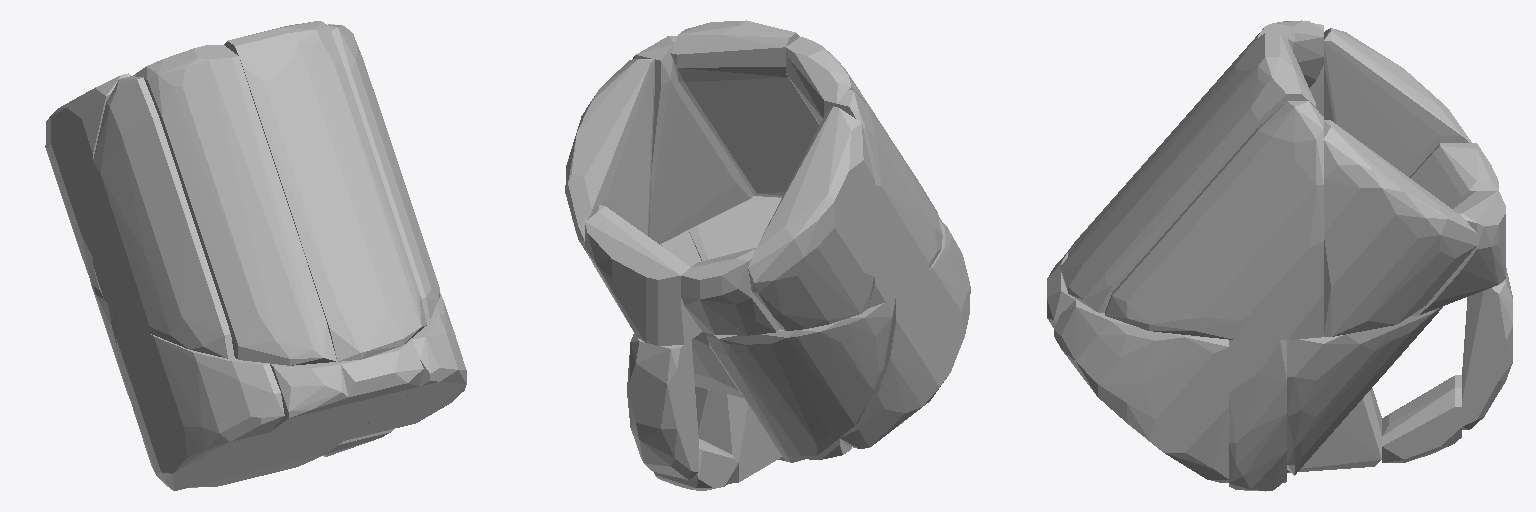
robot.urdf — root:
<robot name="root">
  <link name="link_62634df2ad8f19b87d1b7935311a2ed0_convex_piece_0">
    <inertial>
      <origin rpy="0 0 0" xyz="0 0 0"/>
      <mass value="4.69E-07"/>
      <inertia ixx="6.48E-11" ixy="-1.83E-11" ixz="3.03E-11" iyy="7.71E-11" iyz="-2.01E-11" izz="5.24E-11"/>
    </inertial>
    <visual>
      <origin rpy="0 0 0" xyz="0 0 0"/>
      <geometry>
        <mesh filename="62634df2ad8f19b87d1b7935311a2ed0_convex_piece_0.obj" scale="1.0000E+00"/>
      </geometry>
      <material name="">
        <color rgba="7.50E-01 7.50E-01 7.50E-01 1"/>
      </material>
    </visual>
    <collision>
      <origin rpy="0 0 0" xyz="0 0 0"/>
      <geometry>
        <mesh filename="62634df2ad8f19b87d1b7935311a2ed0_convex_piece_0.obj" scale="1.0000E+00"/>
      </geometry>
    </collision>
  </link>
  <link name="link_62634df2ad8f19b87d1b7935311a2ed0_convex_piece_1">
    <inertial>
      <origin rpy="0 0 0" xyz="0 0 0"/>
      <mass value="5.58E-07"/>
      <inertia ixx="1.05E-10" ixy="5.14E-11" ixz="6.05E-11" iyy="1.33E-10" iyz="3.71E-11" izz="1.25E-10"/>
    </inertial>
    <visual>
      <origin rpy="0 0 0" xyz="0 0 0"/>
      <geometry>
        <mesh filename="62634df2ad8f19b87d1b7935311a2ed0_convex_piece_1.obj" scale="1.0000E+00"/>
      </geometry>
      <material name="">
        <color rgba="7.50E-01 7.50E-01 7.50E-01 1"/>
      </material>
    </visual>
    <collision>
      <origin rpy="0 0 0" xyz="0 0 0"/>
      <geometry>
        <mesh filename="62634df2ad8f19b87d1b7935311a2ed0_convex_piece_1.obj" scale="1.0000E+00"/>
      </geometry>
    </collision>
  </link>
  <joint name="link_62634df2ad8f19b87d1b7935311a2ed0_convex_piece_1_joint" type="fixed">
    <origin rpy="0 0 0" xyz="0 0 0"/>
    <parent link="link_62634df2ad8f19b87d1b7935311a2ed0_convex_piece_0"/>
    <child link="link_62634df2ad8f19b87d1b7935311a2ed0_convex_piece_1"/>
  </joint>
  <link name="link_62634df2ad8f19b87d1b7935311a2ed0_convex_piece_2">
    <inertial>
      <origin rpy="0 0 0" xyz="0 0 0"/>
      <mass value="3.99E-07"/>
      <inertia ixx="1.13E-10" ixy="2.40E-11" ixz="2.54E-11" iyy="7.05E-11" iyz="3.47E-11" izz="7.16E-11"/>
    </inertial>
    <visual>
      <origin rpy="0 0 0" xyz="0 0 0"/>
      <geometry>
        <mesh filename="62634df2ad8f19b87d1b7935311a2ed0_convex_piece_2.obj" scale="1.0000E+00"/>
      </geometry>
      <material name="">
        <color rgba="7.50E-01 7.50E-01 7.50E-01 1"/>
      </material>
    </visual>
    <collision>
      <origin rpy="0 0 0" xyz="0 0 0"/>
      <geometry>
        <mesh filename="62634df2ad8f19b87d1b7935311a2ed0_convex_piece_2.obj" scale="1.0000E+00"/>
      </geometry>
    </collision>
  </link>
  <joint name="link_62634df2ad8f19b87d1b7935311a2ed0_convex_piece_2_joint" type="fixed">
    <origin rpy="0 0 0" xyz="0 0 0"/>
    <parent link="link_62634df2ad8f19b87d1b7935311a2ed0_convex_piece_1"/>
    <child link="link_62634df2ad8f19b87d1b7935311a2ed0_convex_piece_2"/>
  </joint>
  <link name="link_62634df2ad8f19b87d1b7935311a2ed0_convex_piece_3">
    <inertial>
      <origin rpy="0 0 0" xyz="0 0 0"/>
      <mass value="5.80E-07"/>
      <inertia ixx="1.74E-10" ixy="-9.42E-12" ixz="-1.06E-11" iyy="9.39E-11" iyz="5.03E-11" izz="9.05E-11"/>
    </inertial>
    <visual>
      <origin rpy="0 0 0" xyz="0 0 0"/>
      <geometry>
        <mesh filename="62634df2ad8f19b87d1b7935311a2ed0_convex_piece_3.obj" scale="1.0000E+00"/>
      </geometry>
      <material name="">
        <color rgba="7.50E-01 7.50E-01 7.50E-01 1"/>
      </material>
    </visual>
    <collision>
      <origin rpy="0 0 0" xyz="0 0 0"/>
      <geometry>
        <mesh filename="62634df2ad8f19b87d1b7935311a2ed0_convex_piece_3.obj" scale="1.0000E+00"/>
      </geometry>
    </collision>
  </link>
  <joint name="link_62634df2ad8f19b87d1b7935311a2ed0_convex_piece_3_joint" type="fixed">
    <origin rpy="0 0 0" xyz="0 0 0"/>
    <parent link="link_62634df2ad8f19b87d1b7935311a2ed0_convex_piece_2"/>
    <child link="link_62634df2ad8f19b87d1b7935311a2ed0_convex_piece_3"/>
  </joint>
  <link name="link_62634df2ad8f19b87d1b7935311a2ed0_convex_piece_4">
    <inertial>
      <origin rpy="0 0 0" xyz="0 0 0"/>
      <mass value="3.82E-07"/>
      <inertia ixx="4.91E-11" ixy="1.68E-11" ixz="-2.47E-11" iyy="6.00E-11" iyz="-1.70E-11" izz="4.49E-11"/>
    </inertial>
    <visual>
      <origin rpy="0 0 0" xyz="0 0 0"/>
      <geometry>
        <mesh filename="62634df2ad8f19b87d1b7935311a2ed0_convex_piece_4.obj" scale="1.0000E+00"/>
      </geometry>
      <material name="">
        <color rgba="7.50E-01 7.50E-01 7.50E-01 1"/>
      </material>
    </visual>
    <collision>
      <origin rpy="0 0 0" xyz="0 0 0"/>
      <geometry>
        <mesh filename="62634df2ad8f19b87d1b7935311a2ed0_convex_piece_4.obj" scale="1.0000E+00"/>
      </geometry>
    </collision>
  </link>
  <joint name="link_62634df2ad8f19b87d1b7935311a2ed0_convex_piece_4_joint" type="fixed">
    <origin rpy="0 0 0" xyz="0 0 0"/>
    <parent link="link_62634df2ad8f19b87d1b7935311a2ed0_convex_piece_3"/>
    <child link="link_62634df2ad8f19b87d1b7935311a2ed0_convex_piece_4"/>
  </joint>
  <link name="link_62634df2ad8f19b87d1b7935311a2ed0_convex_piece_5">
    <inertial>
      <origin rpy="0 0 0" xyz="0 0 0"/>
      <mass value="3.24E-07"/>
      <inertia ixx="2.30E-11" ixy="7.20E-12" ixz="-2.17E-11" iyy="6.76E-11" iyz="-1.02E-12" izz="5.78E-11"/>
    </inertial>
    <visual>
      <origin rpy="0 0 0" xyz="0 0 0"/>
      <geometry>
        <mesh filename="62634df2ad8f19b87d1b7935311a2ed0_convex_piece_5.obj" scale="1.0000E+00"/>
      </geometry>
      <material name="">
        <color rgba="7.50E-01 7.50E-01 7.50E-01 1"/>
      </material>
    </visual>
    <collision>
      <origin rpy="0 0 0" xyz="0 0 0"/>
      <geometry>
        <mesh filename="62634df2ad8f19b87d1b7935311a2ed0_convex_piece_5.obj" scale="1.0000E+00"/>
      </geometry>
    </collision>
  </link>
  <joint name="link_62634df2ad8f19b87d1b7935311a2ed0_convex_piece_5_joint" type="fixed">
    <origin rpy="0 0 0" xyz="0 0 0"/>
    <parent link="link_62634df2ad8f19b87d1b7935311a2ed0_convex_piece_4"/>
    <child link="link_62634df2ad8f19b87d1b7935311a2ed0_convex_piece_5"/>
  </joint>
  <link name="link_62634df2ad8f19b87d1b7935311a2ed0_convex_piece_6">
    <inertial>
      <origin rpy="0 0 0" xyz="0 0 0"/>
      <mass value="5.27E-07"/>
      <inertia ixx="1.09E-10" ixy="2.45E-11" ixz="-3.35E-11" iyy="9.33E-11" iyz="-2.00E-11" izz="7.05E-11"/>
    </inertial>
    <visual>
      <origin rpy="0 0 0" xyz="0 0 0"/>
      <geometry>
        <mesh filename="62634df2ad8f19b87d1b7935311a2ed0_convex_piece_6.obj" scale="1.0000E+00"/>
      </geometry>
      <material name="">
        <color rgba="7.50E-01 7.50E-01 7.50E-01 1"/>
      </material>
    </visual>
    <collision>
      <origin rpy="0 0 0" xyz="0 0 0"/>
      <geometry>
        <mesh filename="62634df2ad8f19b87d1b7935311a2ed0_convex_piece_6.obj" scale="1.0000E+00"/>
      </geometry>
    </collision>
  </link>
  <joint name="link_62634df2ad8f19b87d1b7935311a2ed0_convex_piece_6_joint" type="fixed">
    <origin rpy="0 0 0" xyz="0 0 0"/>
    <parent link="link_62634df2ad8f19b87d1b7935311a2ed0_convex_piece_5"/>
    <child link="link_62634df2ad8f19b87d1b7935311a2ed0_convex_piece_6"/>
  </joint>
  <link name="link_62634df2ad8f19b87d1b7935311a2ed0_convex_piece_7">
    <inertial>
      <origin rpy="0 0 0" xyz="0 0 0"/>
      <mass value="3.92E-07"/>
      <inertia ixx="6.78E-11" ixy="-4.39E-11" ixz="-3.48E-11" iyy="8.43E-11" iyz="2.56E-11" izz="9.59E-11"/>
    </inertial>
    <visual>
      <origin rpy="0 0 0" xyz="0 0 0"/>
      <geometry>
        <mesh filename="62634df2ad8f19b87d1b7935311a2ed0_convex_piece_7.obj" scale="1.0000E+00"/>
      </geometry>
      <material name="">
        <color rgba="7.50E-01 7.50E-01 7.50E-01 1"/>
      </material>
    </visual>
    <collision>
      <origin rpy="0 0 0" xyz="0 0 0"/>
      <geometry>
        <mesh filename="62634df2ad8f19b87d1b7935311a2ed0_convex_piece_7.obj" scale="1.0000E+00"/>
      </geometry>
    </collision>
  </link>
  <joint name="link_62634df2ad8f19b87d1b7935311a2ed0_convex_piece_7_joint" type="fixed">
    <origin rpy="0 0 0" xyz="0 0 0"/>
    <parent link="link_62634df2ad8f19b87d1b7935311a2ed0_convex_piece_6"/>
    <child link="link_62634df2ad8f19b87d1b7935311a2ed0_convex_piece_7"/>
  </joint>
  <link name="link_62634df2ad8f19b87d1b7935311a2ed0_convex_piece_8">
    <inertial>
      <origin rpy="0 0 0" xyz="0 0 0"/>
      <mass value="1.44E-07"/>
      <inertia ixx="3.91E-11" ixy="-1.43E-11" ixz="-2.21E-12" iyy="6.93E-12" iyz="5.60E-12" izz="4.44E-11"/>
    </inertial>
    <visual>
      <origin rpy="0 0 0" xyz="0 0 0"/>
      <geometry>
        <mesh filename="62634df2ad8f19b87d1b7935311a2ed0_convex_piece_8.obj" scale="1.0000E+00"/>
      </geometry>
      <material name="">
        <color rgba="7.50E-01 7.50E-01 7.50E-01 1"/>
      </material>
    </visual>
    <collision>
      <origin rpy="0 0 0" xyz="0 0 0"/>
      <geometry>
        <mesh filename="62634df2ad8f19b87d1b7935311a2ed0_convex_piece_8.obj" scale="1.0000E+00"/>
      </geometry>
    </collision>
  </link>
  <joint name="link_62634df2ad8f19b87d1b7935311a2ed0_convex_piece_8_joint" type="fixed">
    <origin rpy="0 0 0" xyz="0 0 0"/>
    <parent link="link_62634df2ad8f19b87d1b7935311a2ed0_convex_piece_7"/>
    <child link="link_62634df2ad8f19b87d1b7935311a2ed0_convex_piece_8"/>
  </joint>
  <link name="link_62634df2ad8f19b87d1b7935311a2ed0_convex_piece_9">
    <inertial>
      <origin rpy="0 0 0" xyz="0 0 0"/>
      <mass value="7.38E-07"/>
      <inertia ixx="1.77E-10" ixy="-1.75E-11" ixz="2.21E-11" iyy="1.16E-10" iyz="-3.70E-11" izz="9.03E-11"/>
    </inertial>
    <visual>
      <origin rpy="0 0 0" xyz="0 0 0"/>
      <geometry>
        <mesh filename="62634df2ad8f19b87d1b7935311a2ed0_convex_piece_9.obj" scale="1.0000E+00"/>
      </geometry>
      <material name="">
        <color rgba="7.50E-01 7.50E-01 7.50E-01 1"/>
      </material>
    </visual>
    <collision>
      <origin rpy="0 0 0" xyz="0 0 0"/>
      <geometry>
        <mesh filename="62634df2ad8f19b87d1b7935311a2ed0_convex_piece_9.obj" scale="1.0000E+00"/>
      </geometry>
    </collision>
  </link>
  <joint name="link_62634df2ad8f19b87d1b7935311a2ed0_convex_piece_9_joint" type="fixed">
    <origin rpy="0 0 0" xyz="0 0 0"/>
    <parent link="link_62634df2ad8f19b87d1b7935311a2ed0_convex_piece_8"/>
    <child link="link_62634df2ad8f19b87d1b7935311a2ed0_convex_piece_9"/>
  </joint>
  <link name="link_62634df2ad8f19b87d1b7935311a2ed0_convex_piece_10">
    <inertial>
      <origin rpy="0 0 0" xyz="0 0 0"/>
      <mass value="5.12E-07"/>
      <inertia ixx="4.74E-11" ixy="-1.49E-11" ixz="3.55E-11" iyy="1.02E-10" iyz="-3.78E-12" izz="8.45E-11"/>
    </inertial>
    <visual>
      <origin rpy="0 0 0" xyz="0 0 0"/>
      <geometry>
        <mesh filename="62634df2ad8f19b87d1b7935311a2ed0_convex_piece_10.obj" scale="1.0000E+00"/>
      </geometry>
      <material name="">
        <color rgba="7.50E-01 7.50E-01 7.50E-01 1"/>
      </material>
    </visual>
    <collision>
      <origin rpy="0 0 0" xyz="0 0 0"/>
      <geometry>
        <mesh filename="62634df2ad8f19b87d1b7935311a2ed0_convex_piece_10.obj" scale="1.0000E+00"/>
      </geometry>
    </collision>
  </link>
  <joint name="link_62634df2ad8f19b87d1b7935311a2ed0_convex_piece_10_joint" type="fixed">
    <origin rpy="0 0 0" xyz="0 0 0"/>
    <parent link="link_62634df2ad8f19b87d1b7935311a2ed0_convex_piece_9"/>
    <child link="link_62634df2ad8f19b87d1b7935311a2ed0_convex_piece_10"/>
  </joint>
  <link name="link_62634df2ad8f19b87d1b7935311a2ed0_convex_piece_11">
    <inertial>
      <origin rpy="0 0 0" xyz="0 0 0"/>
      <mass value="3.30E-07"/>
      <inertia ixx="9.80E-11" ixy="1.89E-11" ixz="2.94E-12" iyy="9.39E-12" iyz="1.10E-11" izz="1.05E-10"/>
    </inertial>
    <visual>
      <origin rpy="0 0 0" xyz="0 0 0"/>
      <geometry>
        <mesh filename="62634df2ad8f19b87d1b7935311a2ed0_convex_piece_11.obj" scale="1.0000E+00"/>
      </geometry>
      <material name="">
        <color rgba="7.50E-01 7.50E-01 7.50E-01 1"/>
      </material>
    </visual>
    <collision>
      <origin rpy="0 0 0" xyz="0 0 0"/>
      <geometry>
        <mesh filename="62634df2ad8f19b87d1b7935311a2ed0_convex_piece_11.obj" scale="1.0000E+00"/>
      </geometry>
    </collision>
  </link>
  <joint name="link_62634df2ad8f19b87d1b7935311a2ed0_convex_piece_11_joint" type="fixed">
    <origin rpy="0 0 0" xyz="0 0 0"/>
    <parent link="link_62634df2ad8f19b87d1b7935311a2ed0_convex_piece_10"/>
    <child link="link_62634df2ad8f19b87d1b7935311a2ed0_convex_piece_11"/>
  </joint>
  <link name="link_62634df2ad8f19b87d1b7935311a2ed0_convex_piece_12">
    <inertial>
      <origin rpy="0 0 0" xyz="0 0 0"/>
      <mass value="3.80E-07"/>
      <inertia ixx="6.59E-11" ixy="4.28E-11" ixz="3.45E-11" iyy="8.34E-11" iyz="2.51E-11" izz="9.36E-11"/>
    </inertial>
    <visual>
      <origin rpy="0 0 0" xyz="0 0 0"/>
      <geometry>
        <mesh filename="62634df2ad8f19b87d1b7935311a2ed0_convex_piece_12.obj" scale="1.0000E+00"/>
      </geometry>
      <material name="">
        <color rgba="7.50E-01 7.50E-01 7.50E-01 1"/>
      </material>
    </visual>
    <collision>
      <origin rpy="0 0 0" xyz="0 0 0"/>
      <geometry>
        <mesh filename="62634df2ad8f19b87d1b7935311a2ed0_convex_piece_12.obj" scale="1.0000E+00"/>
      </geometry>
    </collision>
  </link>
  <joint name="link_62634df2ad8f19b87d1b7935311a2ed0_convex_piece_12_joint" type="fixed">
    <origin rpy="0 0 0" xyz="0 0 0"/>
    <parent link="link_62634df2ad8f19b87d1b7935311a2ed0_convex_piece_11"/>
    <child link="link_62634df2ad8f19b87d1b7935311a2ed0_convex_piece_12"/>
  </joint>
  <link name="link_62634df2ad8f19b87d1b7935311a2ed0_convex_piece_13">
    <inertial>
      <origin rpy="0 0 0" xyz="0 0 0"/>
      <mass value="5.34E-07"/>
      <inertia ixx="1.21E-10" ixy="-6.01E-11" ixz="-4.90E-11" iyy="1.07E-10" iyz="4.75E-11" izz="1.35E-10"/>
    </inertial>
    <visual>
      <origin rpy="0 0 0" xyz="0 0 0"/>
      <geometry>
        <mesh filename="62634df2ad8f19b87d1b7935311a2ed0_convex_piece_13.obj" scale="1.0000E+00"/>
      </geometry>
      <material name="">
        <color rgba="7.50E-01 7.50E-01 7.50E-01 1"/>
      </material>
    </visual>
    <collision>
      <origin rpy="0 0 0" xyz="0 0 0"/>
      <geometry>
        <mesh filename="62634df2ad8f19b87d1b7935311a2ed0_convex_piece_13.obj" scale="1.0000E+00"/>
      </geometry>
    </collision>
  </link>
  <joint name="link_62634df2ad8f19b87d1b7935311a2ed0_convex_piece_13_joint" type="fixed">
    <origin rpy="0 0 0" xyz="0 0 0"/>
    <parent link="link_62634df2ad8f19b87d1b7935311a2ed0_convex_piece_12"/>
    <child link="link_62634df2ad8f19b87d1b7935311a2ed0_convex_piece_13"/>
  </joint>
  <link name="link_62634df2ad8f19b87d1b7935311a2ed0_convex_piece_14">
    <inertial>
      <origin rpy="0 0 0" xyz="0 0 0"/>
      <mass value="2.50E-07"/>
      <inertia ixx="4.27E-11" ixy="-6.10E-12" ixz="-3.04E-11" iyy="7.11E-11" iyz="6.04E-12" izz="3.14E-11"/>
    </inertial>
    <visual>
      <origin rpy="0 0 0" xyz="0 0 0"/>
      <geometry>
        <mesh filename="62634df2ad8f19b87d1b7935311a2ed0_convex_piece_14.obj" scale="1.0000E+00"/>
      </geometry>
      <material name="">
        <color rgba="7.50E-01 7.50E-01 7.50E-01 1"/>
      </material>
    </visual>
    <collision>
      <origin rpy="0 0 0" xyz="0 0 0"/>
      <geometry>
        <mesh filename="62634df2ad8f19b87d1b7935311a2ed0_convex_piece_14.obj" scale="1.0000E+00"/>
      </geometry>
    </collision>
  </link>
  <joint name="link_62634df2ad8f19b87d1b7935311a2ed0_convex_piece_14_joint" type="fixed">
    <origin rpy="0 0 0" xyz="0 0 0"/>
    <parent link="link_62634df2ad8f19b87d1b7935311a2ed0_convex_piece_13"/>
    <child link="link_62634df2ad8f19b87d1b7935311a2ed0_convex_piece_14"/>
  </joint>
  <link name="link_62634df2ad8f19b87d1b7935311a2ed0_convex_piece_15">
    <inertial>
      <origin rpy="0 0 0" xyz="0 0 0"/>
      <mass value="1.38E-07"/>
      <inertia ixx="6.97E-11" ixy="1.75E-13" ixz="-8.92E-14" iyy="1.34E-11" iyz="-2.60E-11" izz="5.70E-11"/>
    </inertial>
    <visual>
      <origin rpy="0 0 0" xyz="0 0 0"/>
      <geometry>
        <mesh filename="62634df2ad8f19b87d1b7935311a2ed0_convex_piece_15.obj" scale="1.0000E+00"/>
      </geometry>
      <material name="">
        <color rgba="7.50E-01 7.50E-01 7.50E-01 1"/>
      </material>
    </visual>
    <collision>
      <origin rpy="0 0 0" xyz="0 0 0"/>
      <geometry>
        <mesh filename="62634df2ad8f19b87d1b7935311a2ed0_convex_piece_15.obj" scale="1.0000E+00"/>
      </geometry>
    </collision>
  </link>
  <joint name="link_62634df2ad8f19b87d1b7935311a2ed0_convex_piece_15_joint" type="fixed">
    <origin rpy="0 0 0" xyz="0 0 0"/>
    <parent link="link_62634df2ad8f19b87d1b7935311a2ed0_convex_piece_14"/>
    <child link="link_62634df2ad8f19b87d1b7935311a2ed0_convex_piece_15"/>
  </joint>
  <link name="link_62634df2ad8f19b87d1b7935311a2ed0_convex_piece_16">
    <inertial>
      <origin rpy="0 0 0" xyz="0 0 0"/>
      <mass value="1.45E-07"/>
      <inertia ixx="2.59E-11" ixy="7.02E-13" ixz="-5.02E-13" iyy="8.89E-12" iyz="-1.09E-11" izz="1.81E-11"/>
    </inertial>
    <visual>
      <origin rpy="0 0 0" xyz="0 0 0"/>
      <geometry>
        <mesh filename="62634df2ad8f19b87d1b7935311a2ed0_convex_piece_16.obj" scale="1.0000E+00"/>
      </geometry>
      <material name="">
        <color rgba="7.50E-01 7.50E-01 7.50E-01 1"/>
      </material>
    </visual>
    <collision>
      <origin rpy="0 0 0" xyz="0 0 0"/>
      <geometry>
        <mesh filename="62634df2ad8f19b87d1b7935311a2ed0_convex_piece_16.obj" scale="1.0000E+00"/>
      </geometry>
    </collision>
  </link>
  <joint name="link_62634df2ad8f19b87d1b7935311a2ed0_convex_piece_16_joint" type="fixed">
    <origin rpy="0 0 0" xyz="0 0 0"/>
    <parent link="link_62634df2ad8f19b87d1b7935311a2ed0_convex_piece_15"/>
    <child link="link_62634df2ad8f19b87d1b7935311a2ed0_convex_piece_16"/>
  </joint>
  <link name="link_62634df2ad8f19b87d1b7935311a2ed0_convex_piece_17">
    <inertial>
      <origin rpy="0 0 0" xyz="0 0 0"/>
      <mass value="1.91E-07"/>
      <inertia ixx="6.68E-11" ixy="3.17E-13" ixz="-1.16E-12" iyy="6.12E-11" iyz="-1.86E-11" izz="6.87E-12"/>
    </inertial>
    <visual>
      <origin rpy="0 0 0" xyz="0 0 0"/>
      <geometry>
        <mesh filename="62634df2ad8f19b87d1b7935311a2ed0_convex_piece_17.obj" scale="1.0000E+00"/>
      </geometry>
      <material name="">
        <color rgba="7.50E-01 7.50E-01 7.50E-01 1"/>
      </material>
    </visual>
    <collision>
      <origin rpy="0 0 0" xyz="0 0 0"/>
      <geometry>
        <mesh filename="62634df2ad8f19b87d1b7935311a2ed0_convex_piece_17.obj" scale="1.0000E+00"/>
      </geometry>
    </collision>
  </link>
  <joint name="link_62634df2ad8f19b87d1b7935311a2ed0_convex_piece_17_joint" type="fixed">
    <origin rpy="0 0 0" xyz="0 0 0"/>
    <parent link="link_62634df2ad8f19b87d1b7935311a2ed0_convex_piece_16"/>
    <child link="link_62634df2ad8f19b87d1b7935311a2ed0_convex_piece_17"/>
  </joint>
  <link name="link_62634df2ad8f19b87d1b7935311a2ed0_convex_piece_18">
    <inertial>
      <origin rpy="0 0 0" xyz="0 0 0"/>
      <mass value="8.39E-08"/>
      <inertia ixx="4.46E-11" ixy="1.03E-13" ixz="-1.28E-13" iyy="2.74E-11" iyz="-2.18E-11" izz="1.76E-11"/>
    </inertial>
    <visual>
      <origin rpy="0 0 0" xyz="0 0 0"/>
      <geometry>
        <mesh filename="62634df2ad8f19b87d1b7935311a2ed0_convex_piece_18.obj" scale="1.0000E+00"/>
      </geometry>
      <material name="">
        <color rgba="7.50E-01 7.50E-01 7.50E-01 1"/>
      </material>
    </visual>
    <collision>
      <origin rpy="0 0 0" xyz="0 0 0"/>
      <geometry>
        <mesh filename="62634df2ad8f19b87d1b7935311a2ed0_convex_piece_18.obj" scale="1.0000E+00"/>
      </geometry>
    </collision>
  </link>
  <joint name="link_62634df2ad8f19b87d1b7935311a2ed0_convex_piece_18_joint" type="fixed">
    <origin rpy="0 0 0" xyz="0 0 0"/>
    <parent link="link_62634df2ad8f19b87d1b7935311a2ed0_convex_piece_17"/>
    <child link="link_62634df2ad8f19b87d1b7935311a2ed0_convex_piece_18"/>
  </joint>
</robot>

--- What the picture shows (computed from the rendered views, not written in the file) ---
The picture shows the robot from 3 angles, left to right: view 1: azimuth 30°, elevation 25°; view 2: azimuth 150°, elevation 25°; view 3: azimuth 270°, elevation 25°; orthographic projection.
Model root with 19 links and 18 joints (18 fixed), rooted at link_62634df2ad8f19b87d1b7935311a2ed0_convex_piece_0, posed all joints at 0.
Visible links, largest first — view 1: link_62634df2ad8f19b87d1b7935311a2ed0_convex_piece_9, link_62634df2ad8f19b87d1b7935311a2ed0_convex_piece_6, link_62634df2ad8f19b87d1b7935311a2ed0_convex_piece_5, link_62634df2ad8f19b87d1b7935311a2ed0_convex_piece_1, link_62634df2ad8f19b87d1b7935311a2ed0_convex_piece_3, link_62634df2ad8f19b87d1b7935311a2ed0_convex_piece_7, link_62634df2ad8f19b87d1b7935311a2ed0_convex_piece_10, link_62634df2ad8f19b87d1b7935311a2ed0_convex_piece_2, link_62634df2ad8f19b87d1b7935311a2ed0_convex_piece_13, link_62634df2ad8f19b87d1b7935311a2ed0_convex_piece_0; view 2: link_62634df2ad8f19b87d1b7935311a2ed0_convex_piece_7, link_62634df2ad8f19b87d1b7935311a2ed0_convex_piece_0, link_62634df2ad8f19b87d1b7935311a2ed0_convex_piece_9, link_62634df2ad8f19b87d1b7935311a2ed0_convex_piece_1, link_62634df2ad8f19b87d1b7935311a2ed0_convex_piece_12, link_62634df2ad8f19b87d1b7935311a2ed0_convex_piece_10, link_62634df2ad8f19b87d1b7935311a2ed0_convex_piece_11, link_62634df2ad8f19b87d1b7935311a2ed0_convex_piece_5, link_62634df2ad8f19b87d1b7935311a2ed0_convex_piece_15, link_62634df2ad8f19b87d1b7935311a2ed0_convex_piece_8, link_62634df2ad8f19b87d1b7935311a2ed0_convex_piece_17, link_62634df2ad8f19b87d1b7935311a2ed0_convex_piece_6 (+4 smaller); view 3: link_62634df2ad8f19b87d1b7935311a2ed0_convex_piece_10, link_62634df2ad8f19b87d1b7935311a2ed0_convex_piece_12, link_62634df2ad8f19b87d1b7935311a2ed0_convex_piece_9, link_62634df2ad8f19b87d1b7935311a2ed0_convex_piece_13, link_62634df2ad8f19b87d1b7935311a2ed0_convex_piece_7, link_62634df2ad8f19b87d1b7935311a2ed0_convex_piece_4, link_62634df2ad8f19b87d1b7935311a2ed0_convex_piece_14, link_62634df2ad8f19b87d1b7935311a2ed0_convex_piece_15, link_62634df2ad8f19b87d1b7935311a2ed0_convex_piece_18, link_62634df2ad8f19b87d1b7935311a2ed0_convex_piece_11, link_62634df2ad8f19b87d1b7935311a2ed0_convex_piece_8, link_62634df2ad8f19b87d1b7935311a2ed0_convex_piece_17 (+2 smaller).
Link boxes in pixels (x1,y1,x2,y2): link_62634df2ad8f19b87d1b7935311a2ed0_convex_piece_9: (224,21,426,361); link_62634df2ad8f19b87d1b7935311a2ed0_convex_piece_6: (133,45,336,365); link_62634df2ad8f19b87d1b7935311a2ed0_convex_piece_5: (93,76,234,358); link_62634df2ad8f19b87d1b7935311a2ed0_convex_piece_1: (116,309,284,490); link_62634df2ad8f19b87d1b7935311a2ed0_convex_piece_3: (233,339,423,482); link_62634df2ad8f19b87d1b7935311a2ed0_convex_piece_7: (45,73,130,289); link_62634df2ad8f19b87d1b7935311a2ed0_convex_piece_10: (328,25,439,321); link_62634df2ad8f19b87d1b7935311a2ed0_convex_piece_2: (191,362,348,487); link_62634df2ad8f19b87d1b7935311a2ed0_convex_piece_13: (345,293,466,440); link_62634df2ad8f19b87d1b7935311a2ed0_convex_piece_0: (90,281,129,398); link_62634df2ad8f19b87d1b7935311a2ed0_convex_piece_7: (748,106,874,330); link_62634df2ad8f19b87d1b7935311a2ed0_convex_piece_0: (706,295,895,462); link_62634df2ad8f19b87d1b7935311a2ed0_convex_piece_9: (671,20,819,197); link_62634df2ad8f19b87d1b7935311a2ed0_convex_piece_1: (840,219,970,448); link_62634df2ad8f19b87d1b7935311a2ed0_convex_piece_12: (565,59,654,257); link_62634df2ad8f19b87d1b7935311a2ed0_convex_piece_10: (633,36,753,244); link_62634df2ad8f19b87d1b7935311a2ed0_convex_piece_11: (585,205,701,345); link_62634df2ad8f19b87d1b7935311a2ed0_convex_piece_5: (837,89,942,308); link_62634df2ad8f19b87d1b7935311a2ed0_convex_piece_15: (627,333,698,479); link_62634df2ad8f19b87d1b7935311a2ed0_convex_piece_8: (681,248,779,335); link_62634df2ad8f19b87d1b7935311a2ed0_convex_piece_17: (695,386,782,483); link_62634df2ad8f19b87d1b7935311a2ed0_convex_piece_6: (786,37,937,213); link_62634df2ad8f19b87d1b7935311a2ed0_convex_piece_10: (1105,101,1323,339); link_62634df2ad8f19b87d1b7935311a2ed0_convex_piece_12: (1324,120,1476,336); link_62634df2ad8f19b87d1b7935311a2ed0_convex_piece_9: (1061,32,1315,312); link_62634df2ad8f19b87d1b7935311a2ed0_convex_piece_13: (1054,300,1228,482); link_62634df2ad8f19b87d1b7935311a2ed0_convex_piece_7: (1324,28,1471,176); link_62634df2ad8f19b87d1b7935311a2ed0_convex_piece_4: (1287,306,1442,475); link_62634df2ad8f19b87d1b7935311a2ed0_convex_piece_14: (1229,340,1286,491); link_62634df2ad8f19b87d1b7935311a2ed0_convex_piece_15: (1462,268,1512,429); link_62634df2ad8f19b87d1b7935311a2ed0_convex_piece_18: (1382,375,1461,462); link_62634df2ad8f19b87d1b7935311a2ed0_convex_piece_11: (1412,191,1505,315); link_62634df2ad8f19b87d1b7935311a2ed0_convex_piece_8: (1409,143,1498,208); link_62634df2ad8f19b87d1b7935311a2ed0_convex_piece_17: (1287,388,1381,472).
Size in the robot's own frame: 0.0301 by 0.0459 by 0.0459 metres.
Meshes: 19 distinct files referenced, 19 mesh visuals loaded (19 OBJ).